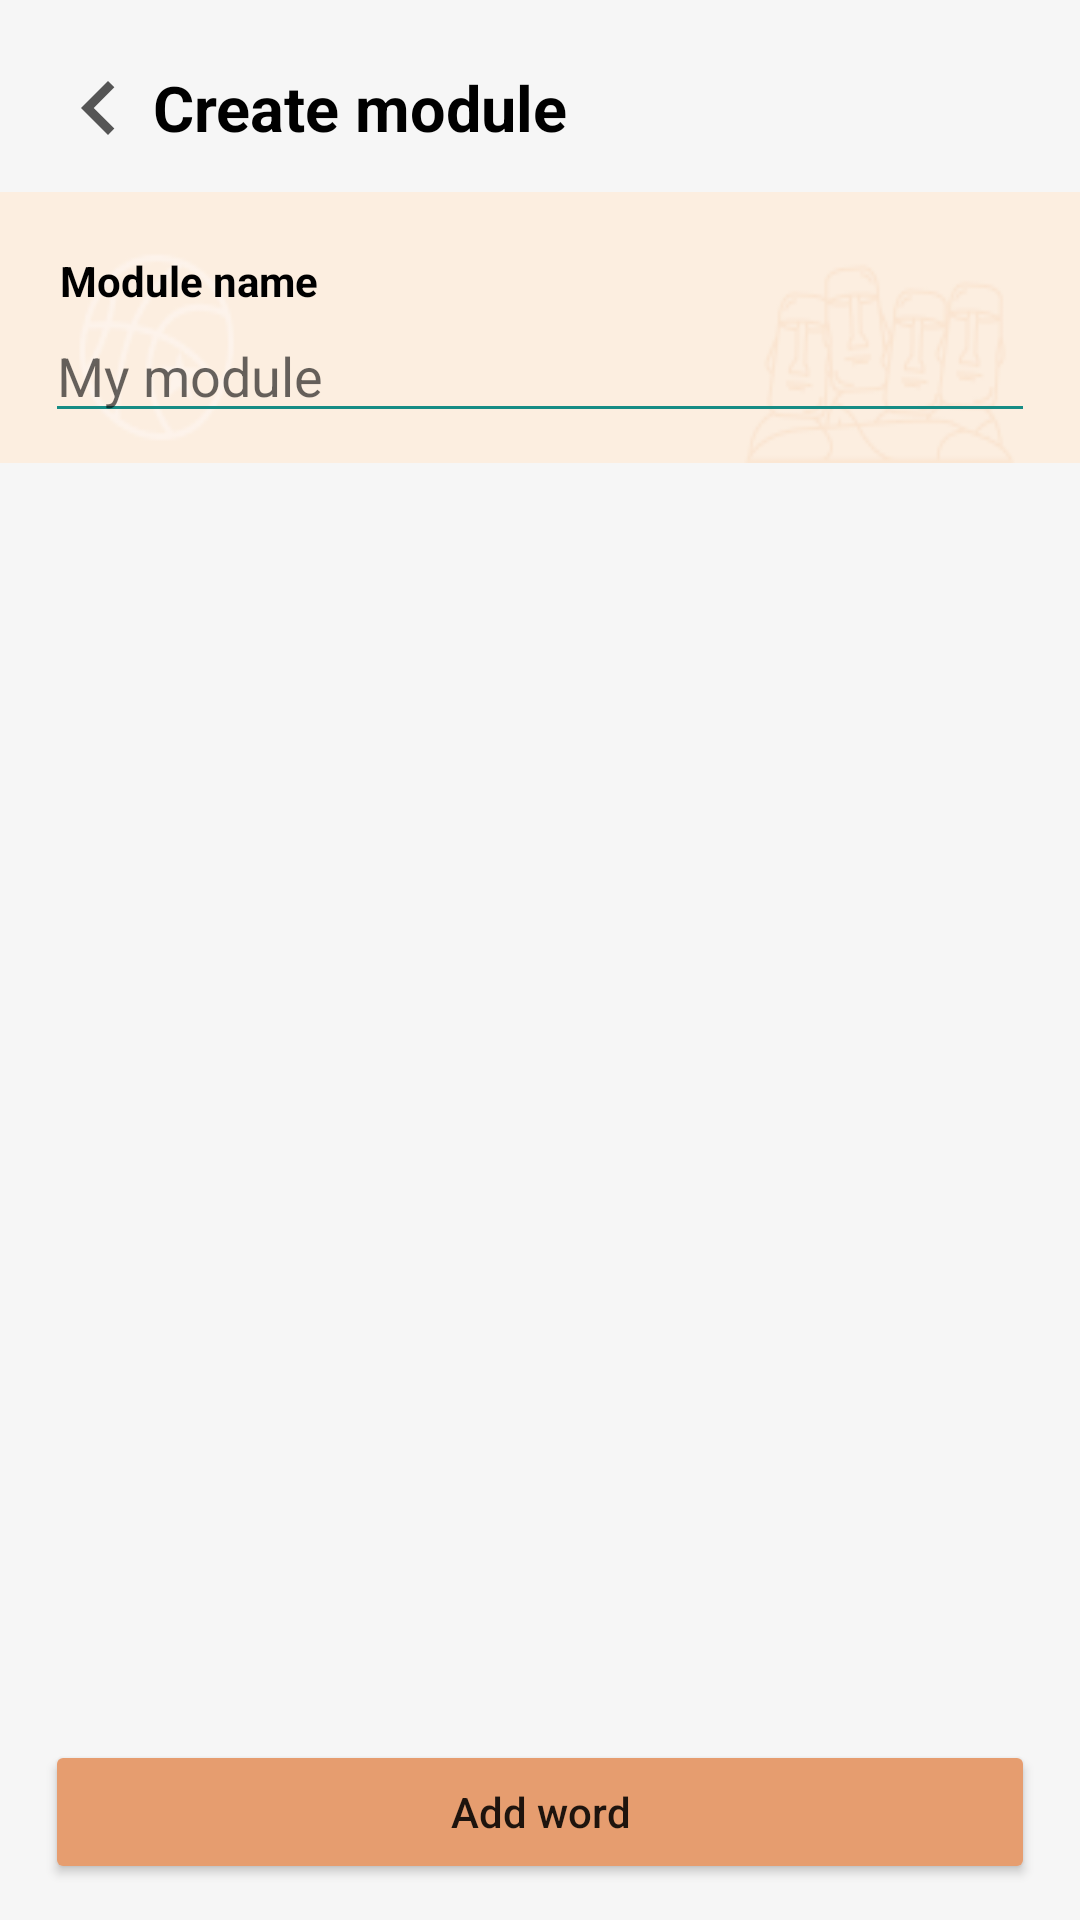

Locate icon controls on the screen. Image size 1080x1920, boxes as (x1, y1, x2, y2).
arrow back: (81, 81, 114, 135)
